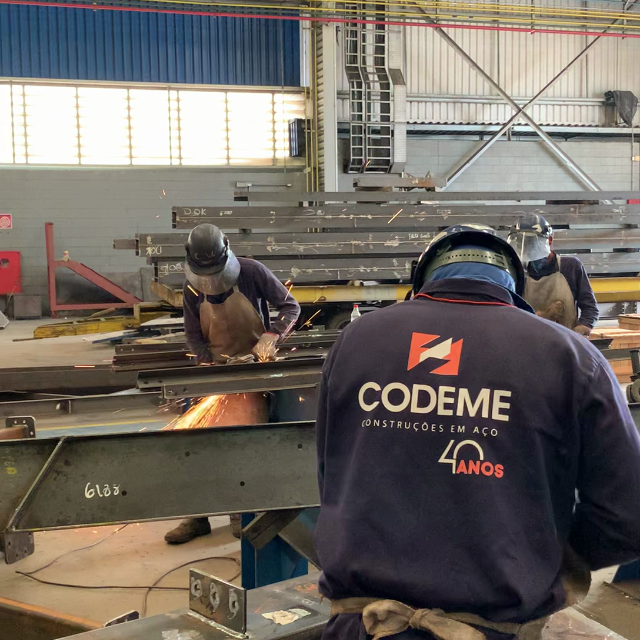face-shield: (181, 248, 242, 297), (507, 232, 554, 260)
helmet: (410, 222, 531, 301), (187, 222, 231, 273), (184, 241, 232, 278)
person: (317, 224, 633, 624), (183, 222, 305, 360), (504, 215, 600, 340)
